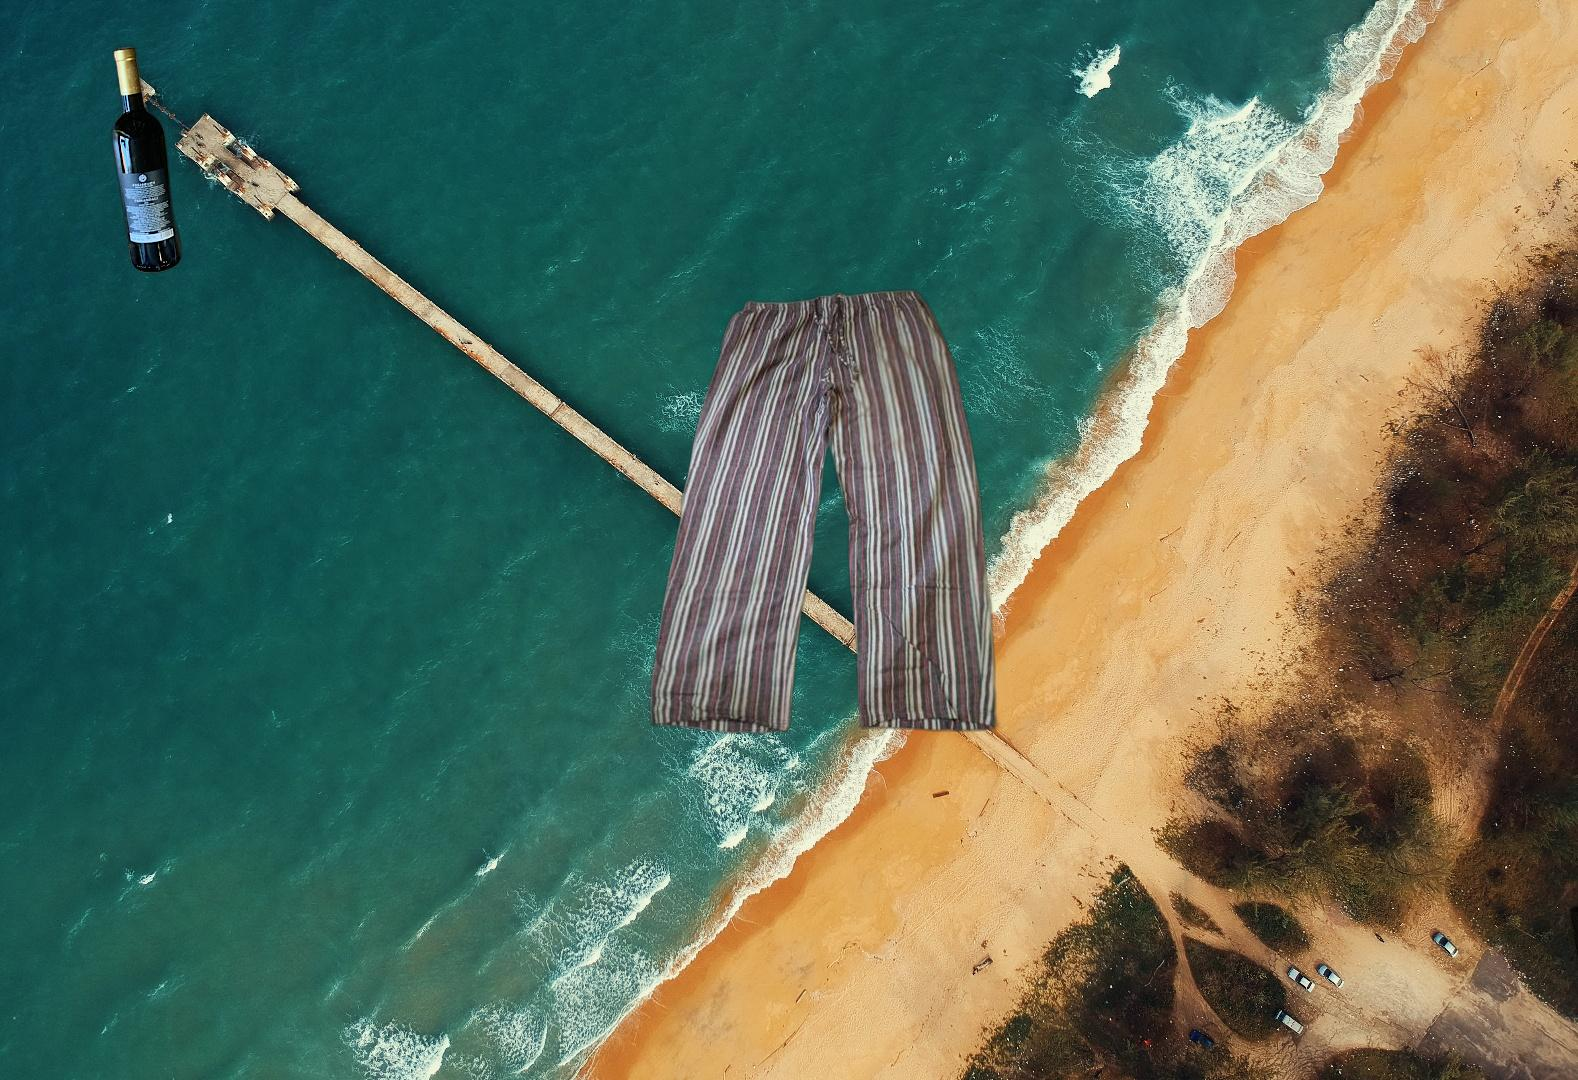clothes: (646, 285, 1002, 738)
glass: (107, 40, 186, 280), (1565, 889, 1578, 1080)
trashbox-cardboard: (870, 700, 1382, 1080)
